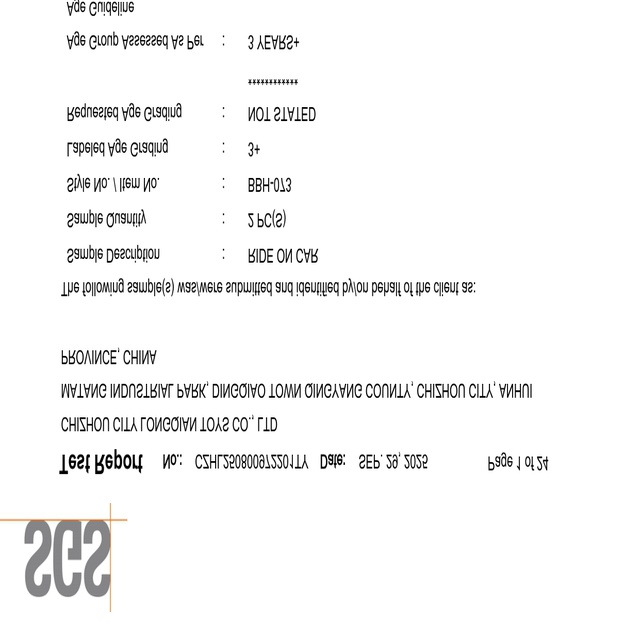sgs: (25, 519, 111, 597)
